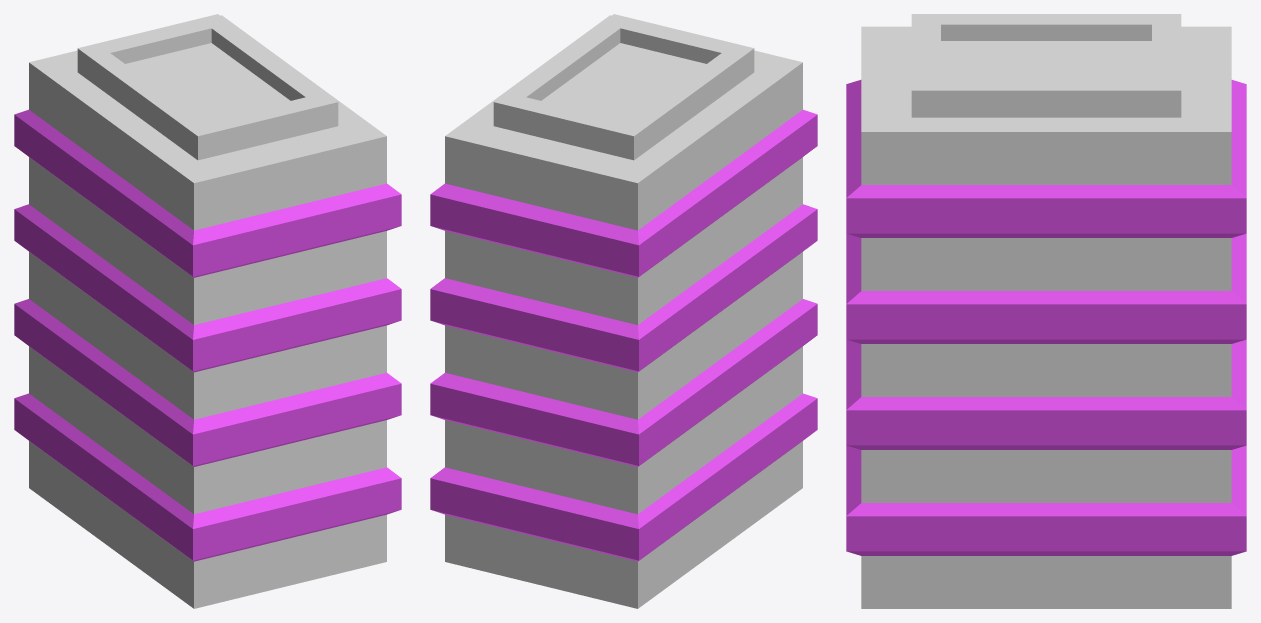
Rendered from building_strips_purple.glb.
3 views of the same model, side by side, from view 1: azimuth 30°, elevation 25°; view 2: azimuth 150°, elevation 25°; view 3: azimuth 270°, elevation 25° (orthographic). The views are drawn at different scales.
Parts seen in each view (by area): view 1: building_strips; view 2: building_strips; view 3: building_strips.
Boxes of the visible parts, bbox=[...] form: building_strips: bbox=[14, 14, 401, 608]; building_strips: bbox=[430, 14, 817, 608]; building_strips: bbox=[846, 14, 1246, 608].
Bounding box in the file's own units: 7.22 × 14.87 × 10.71.
Materials: 1 (1 with a texture image).
